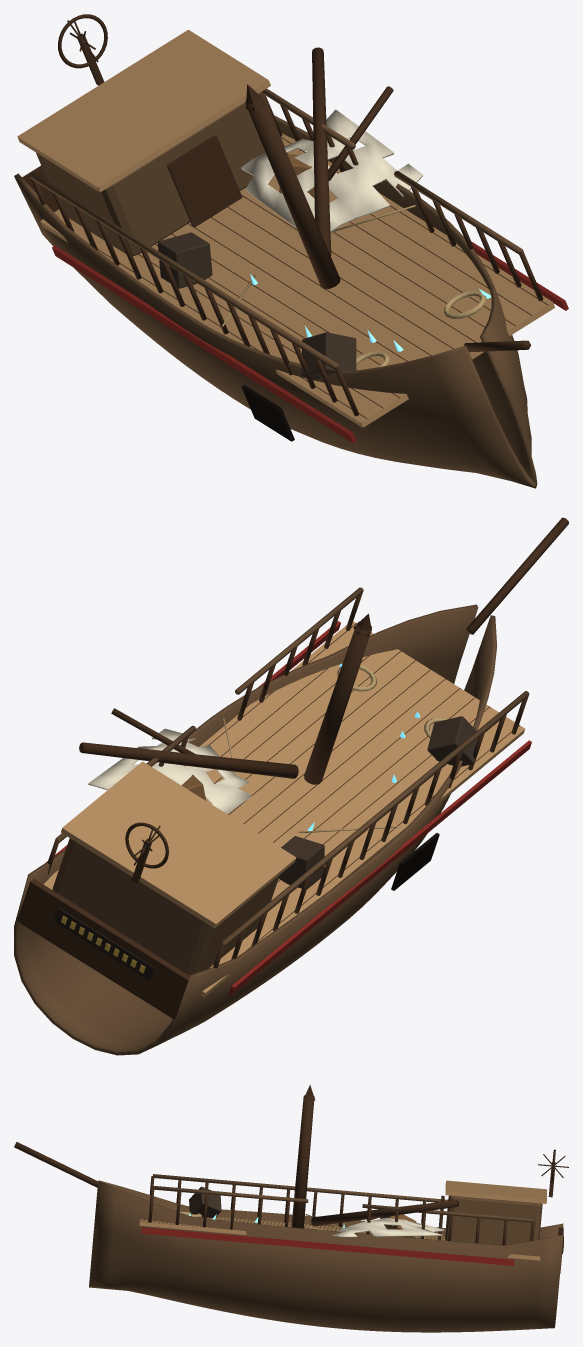
File: seeschwalbe_wrack.glb
3 views of the same model, one above another, from view 1: azimuth 30°, elevation 25°; view 2: azimuth 150°, elevation 25°; view 3: azimuth 270°, elevation 25° (orthographic). The views are drawn at different scales.
Parts seen in each view (by area): view 1: rumpf; view 2: rumpf; view 3: rumpf.
Part boxes in pixels (<box>): rumpf: <box>14,14,568,488</box>; rumpf: <box>14,517,568,1055</box>; rumpf: <box>14,1084,568,1332</box>.
Size of the model in its own units: 4.59 by 6.14 by 14.24.
